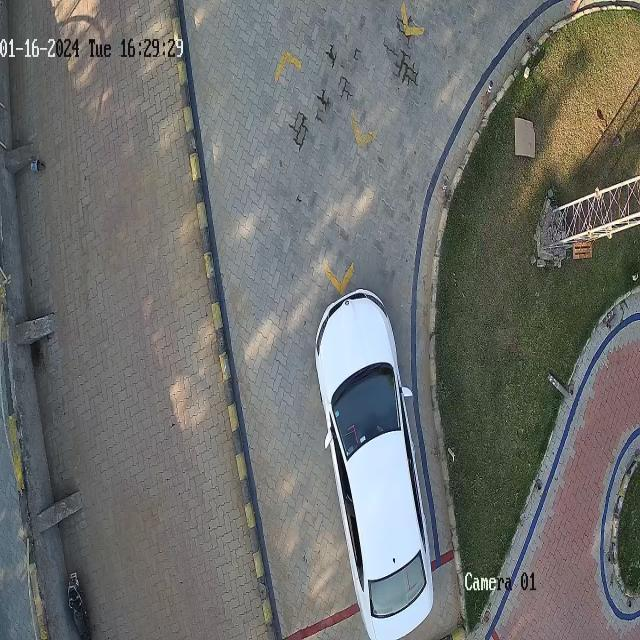car: (316, 289, 434, 638)
